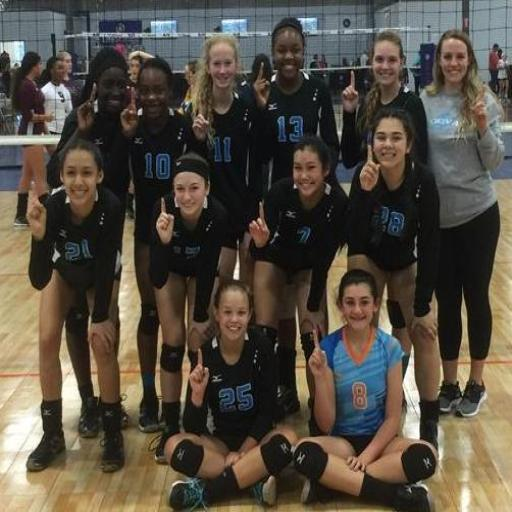person: (294, 269, 437, 511), (27, 140, 124, 472), (422, 31, 504, 416), (347, 108, 439, 446), (166, 281, 296, 510), (121, 57, 194, 432), (149, 153, 227, 462), (249, 136, 347, 360), (193, 34, 263, 285), (254, 19, 339, 190), (48, 48, 129, 205), (341, 31, 427, 168), (15, 146, 47, 227), (41, 57, 72, 134), (57, 51, 83, 107), (180, 60, 198, 112), (498, 48, 509, 102), (489, 43, 499, 94)
